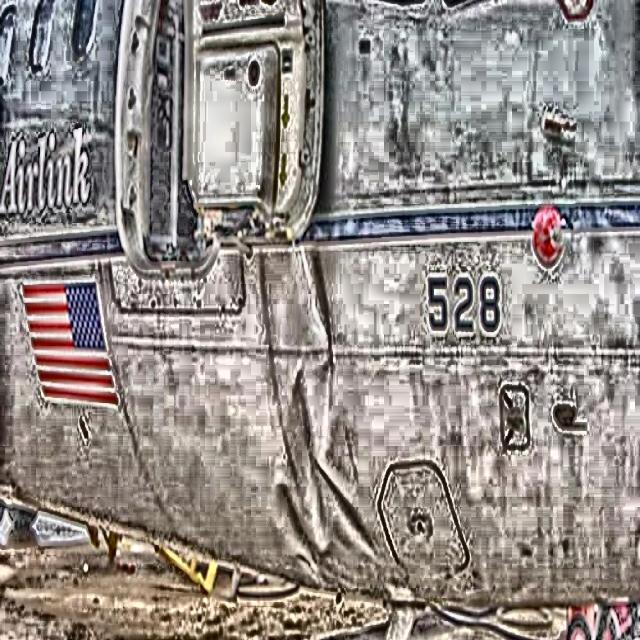dent: (260, 244, 385, 570)
